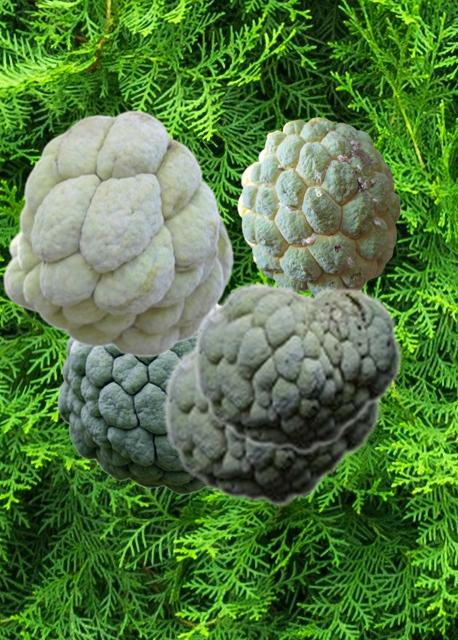atis: (2, 109, 233, 356), (163, 340, 380, 506), (193, 281, 401, 453), (237, 117, 399, 293), (57, 337, 204, 494)
